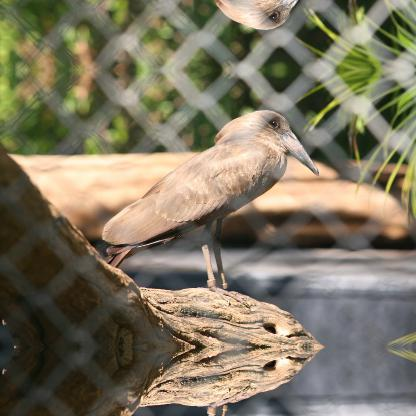Bird: (102, 111, 318, 293)
